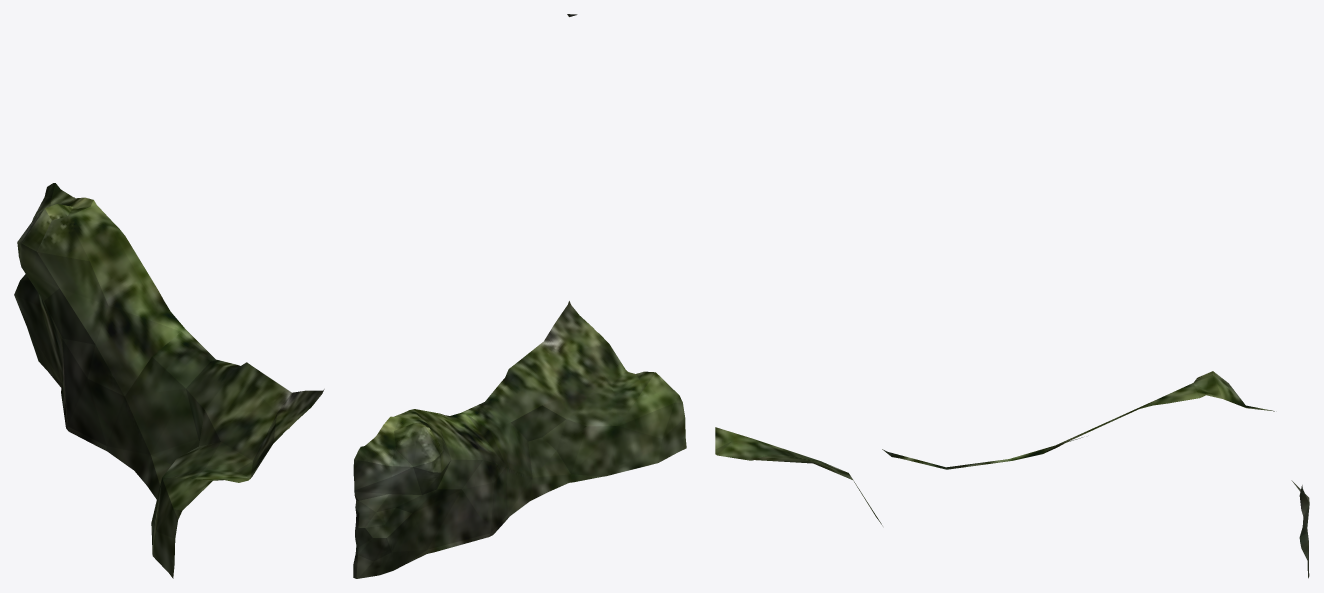
3 renders of one model, left to right at view 1: azimuth 30°, elevation 25°; view 2: azimuth 150°, elevation 25°; view 3: azimuth 270°, elevation 25°, orthographic. The views are drawn at different scales.
Bounding box in the file's own units: 0.5055 × 1.67 × 1.61.
Materials: 1 (1 with a texture image).
